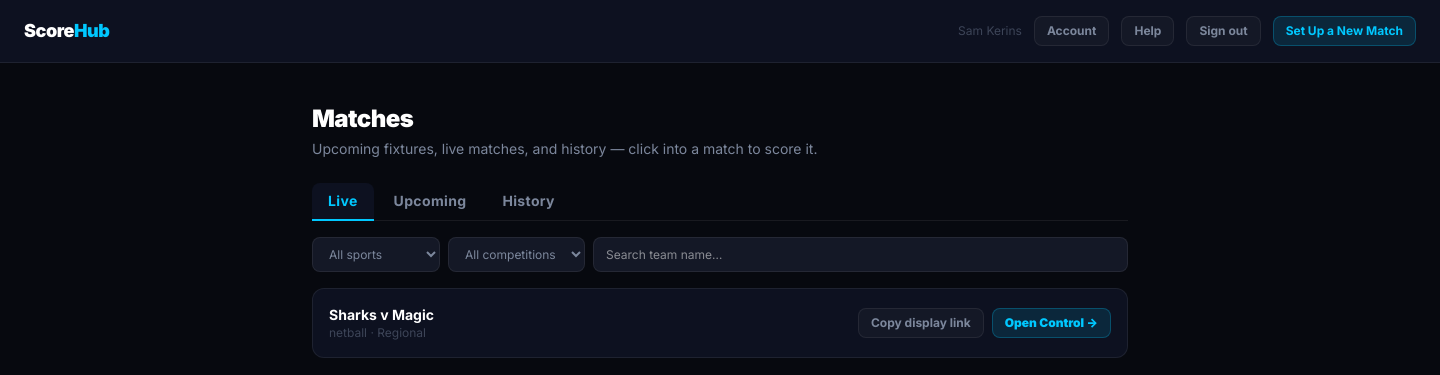
DashboardPage › copies the display link to the clipboard when 'Copy display link' is clicked
The image size is (1440, 375).
Click the button "Copy display link". click: (921, 323)
box: [858,308,984,338]
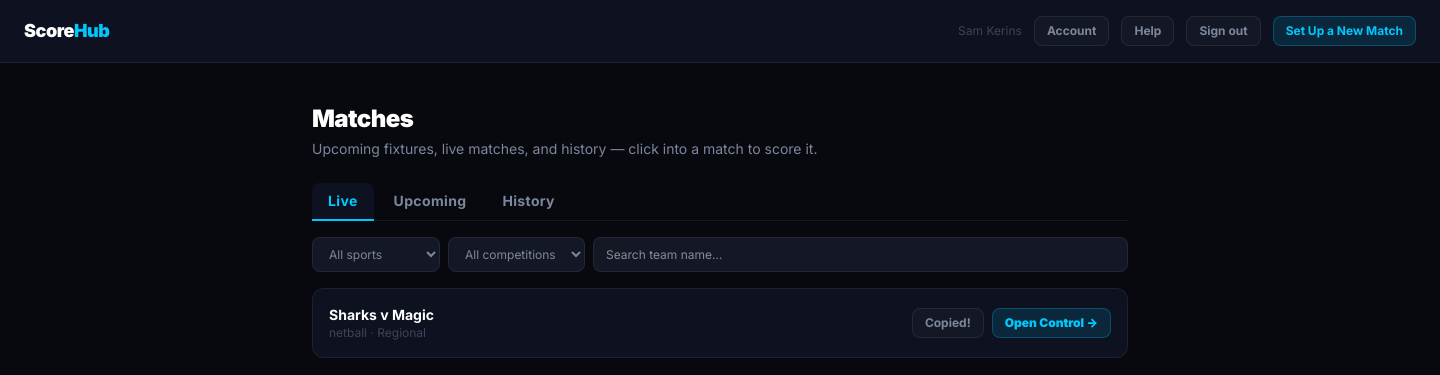
Result: the button "Copied!" is shown at [912,308,984,338]
